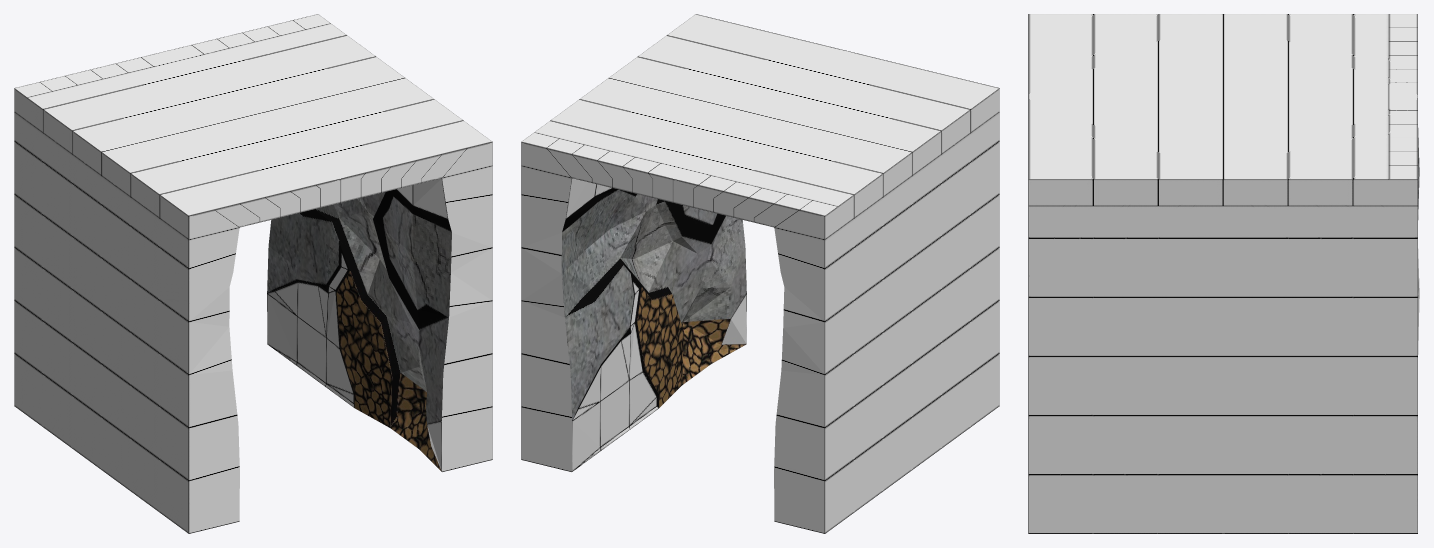
The model's file is EspacioPirateriaScrollTunelBajoNI.gltf.
3 renders of one model, left to right at view 1: azimuth 30°, elevation 25°; view 2: azimuth 150°, elevation 25°; view 3: azimuth 270°, elevation 25°, orthographic. The views are drawn at different scales.
Visible parts, largest first — view 1: Cubo.9; view 2: Cubo.9; view 3: Cubo.9.
Part boxes in pixels (x1=…): Cubo.9: x1=14, y1=14, x2=492, y2=533; Cubo.9: x1=521, y1=14, x2=999, y2=533; Cubo.9: x1=1028, y1=14, x2=1419, y2=533.
Bounding box in the file's own units: 2 × 2 × 2.
Materials: 1 (1 with a texture image).
